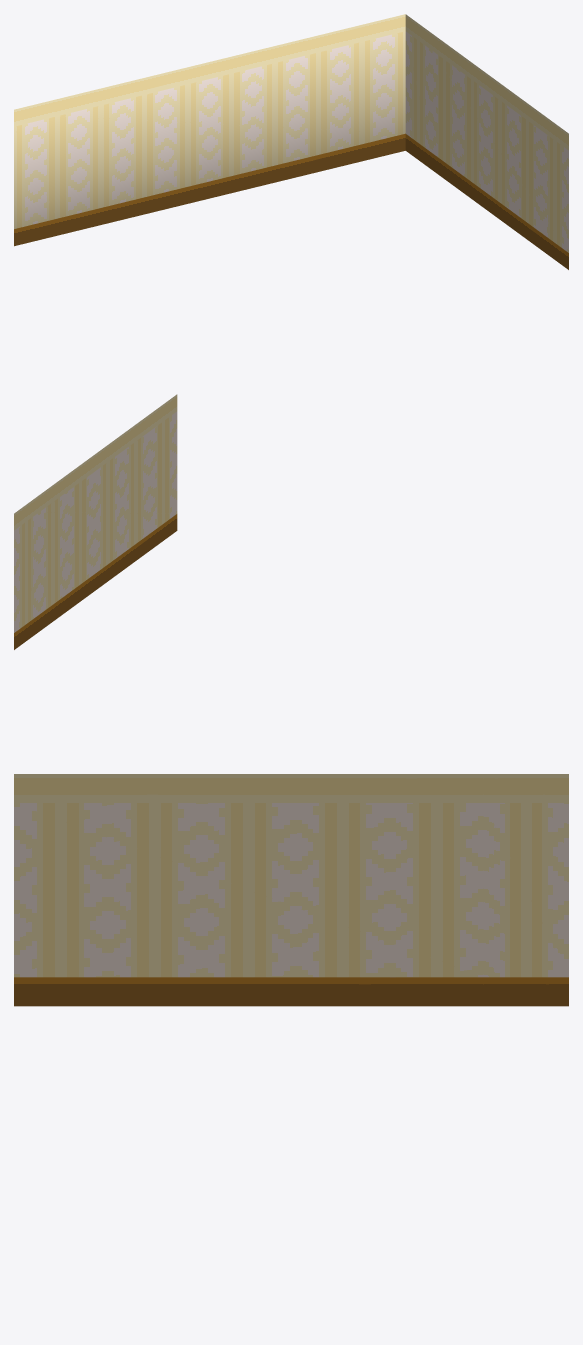
Rendered from hgss-piece-214-mur-est.glb.
3 views of the same model, one above another, from view 1: azimuth 30°, elevation 25°; view 2: azimuth 150°, elevation 25°; view 3: azimuth 270°, elevation 25° (orthographic). The views are drawn at different scales.
Size of the model in its own units: 9 by 3 by 6.5.
2 materials, 2 textured.
